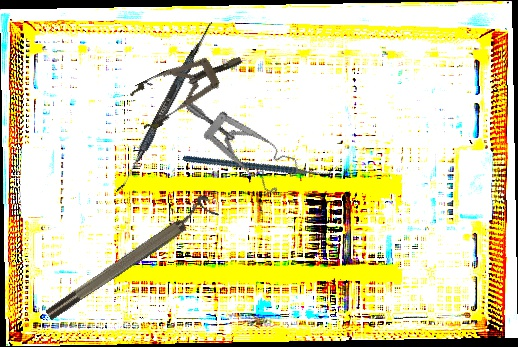Chopper: (182, 106, 339, 221)
Fixation Ring: (38, 192, 220, 324)
Spatula Surgical: (116, 18, 214, 197)
Speculum: (184, 70, 305, 211), (125, 38, 252, 134)
